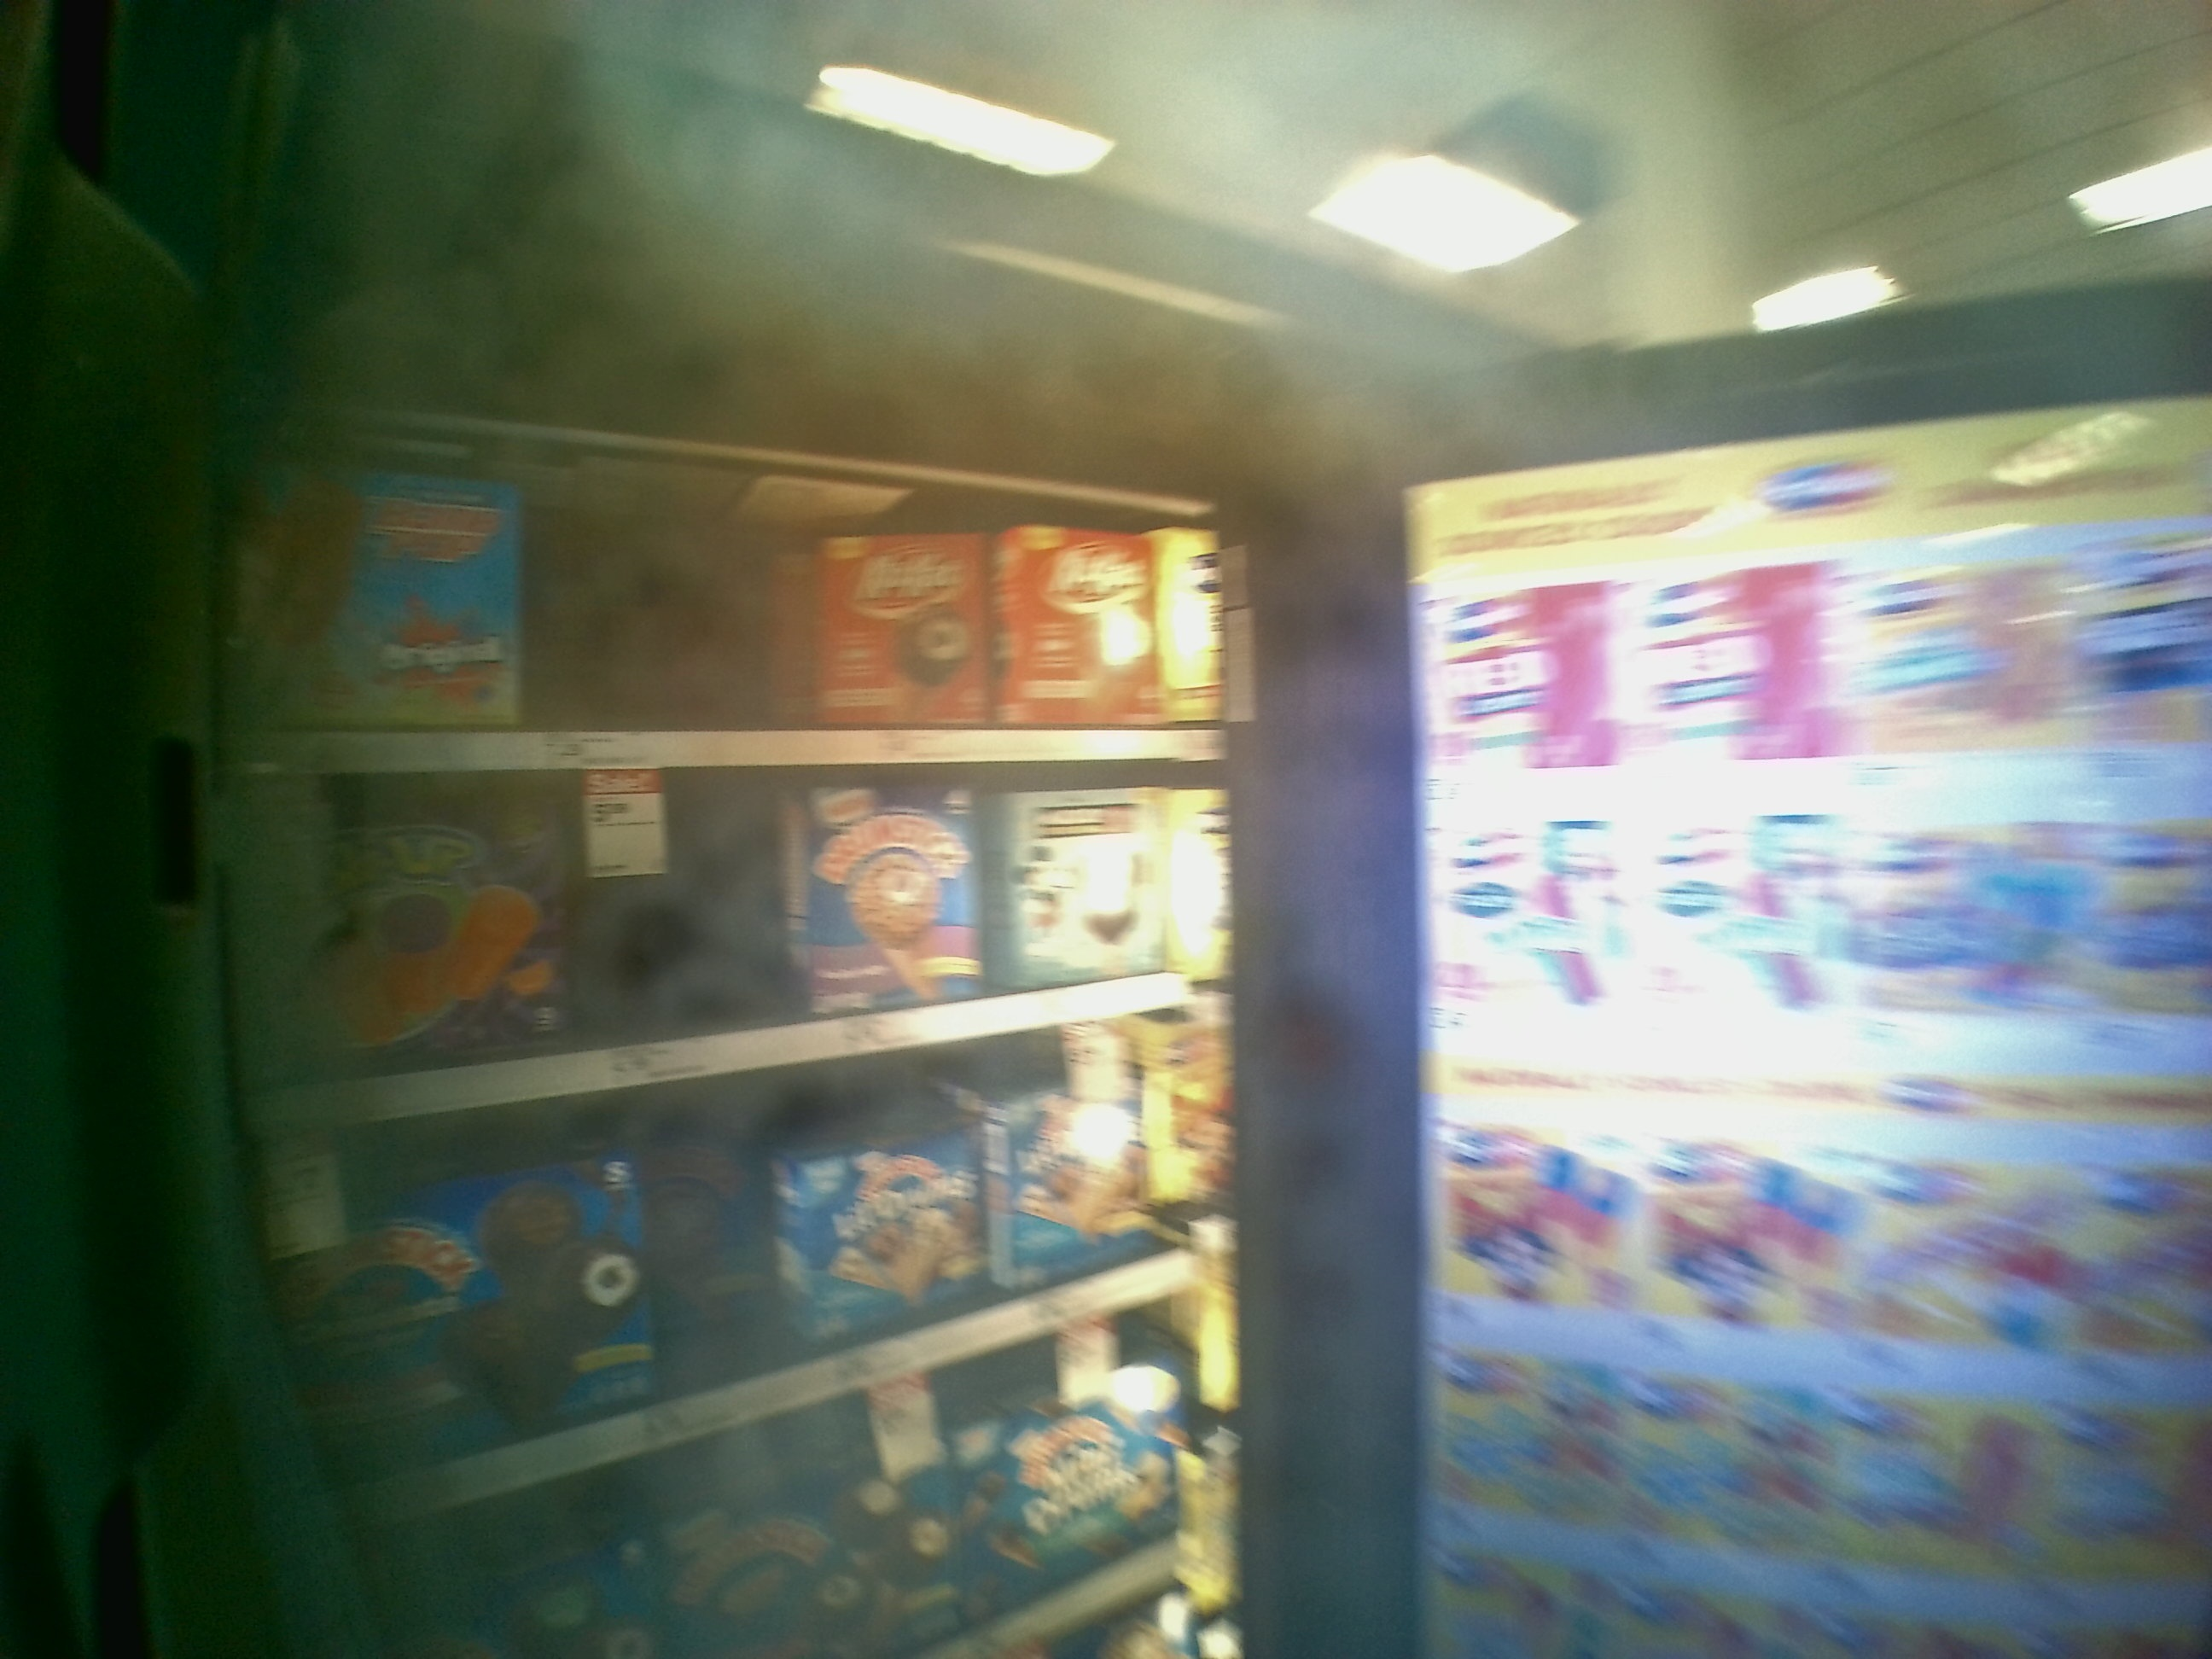shelf: (256, 979, 1233, 1521), (240, 758, 1242, 1155), (246, 375, 1242, 769)
